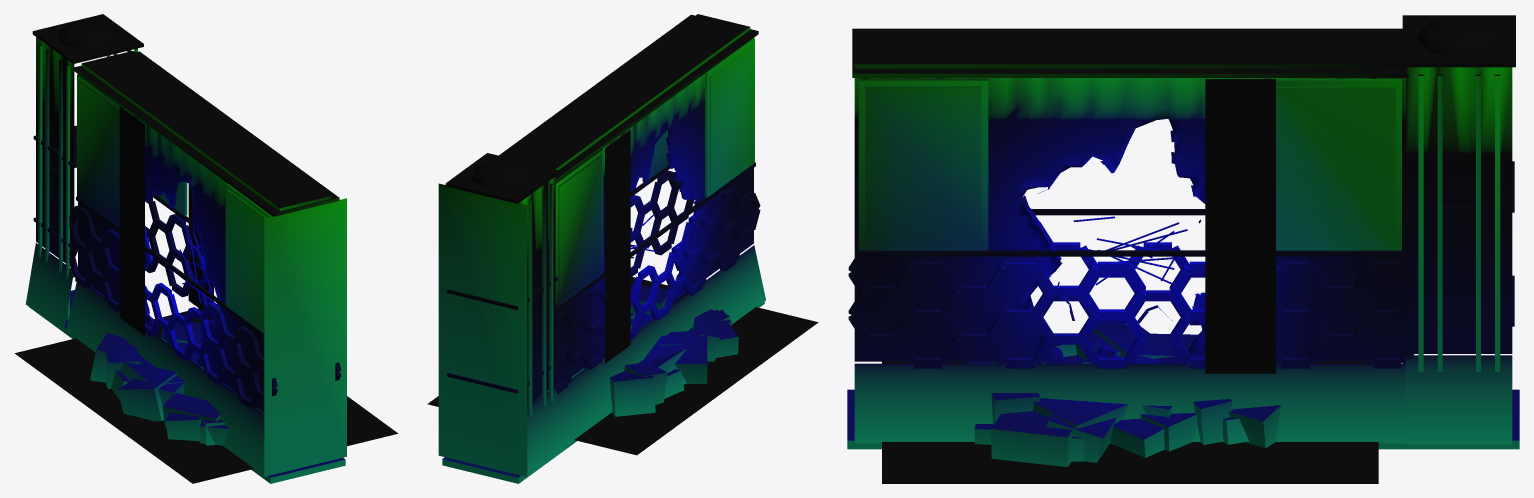
File: d_heavywall_damaged.glb
The picture shows the model from 3 angles, left to right: view 1: azimuth 30°, elevation 25°; view 2: azimuth 150°, elevation 25°; view 3: azimuth 270°, elevation 25°; orthographic projection. The views are drawn at different scales.
Visible parts, largest first — view 1: lod0; view 2: lod0; view 3: lod0.
Part boxes in pixels (bbox=[...]): lod0: bbox=[15, 14, 397, 483]; lod0: bbox=[427, 14, 818, 483]; lod0: bbox=[847, 15, 1519, 483].
Size of what is drawn, in the model's own units: 14 by 18.81 by 28.45.
